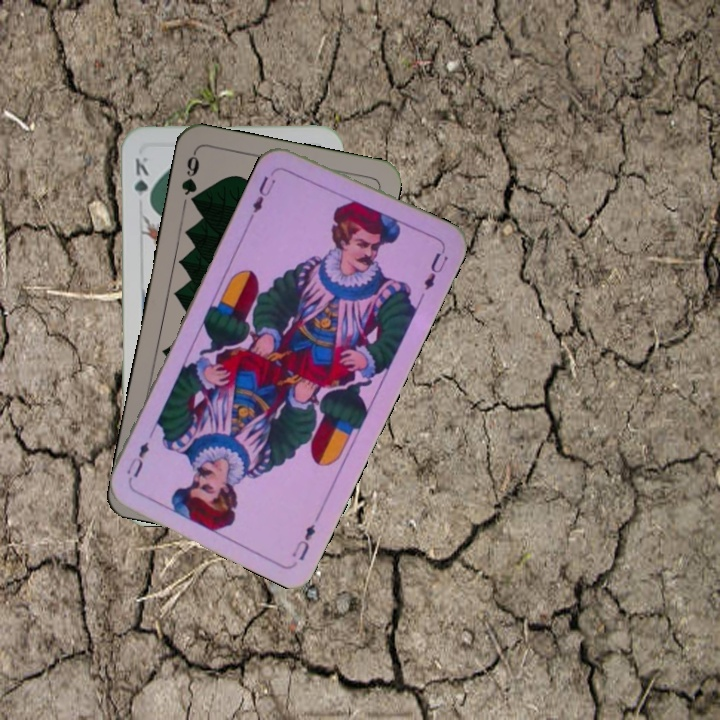EU: (246, 165, 279, 221), (288, 520, 318, 564)
G9: (177, 148, 202, 209)
GK: (129, 153, 153, 210)
